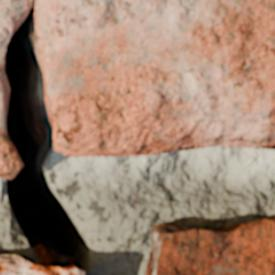brick: (147, 219, 274, 274), (0, 255, 84, 274)
broken_brick: (0, 0, 274, 157), (0, 127, 21, 179)
crack: (0, 2, 93, 272)
